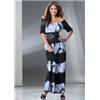vestito: (40, 18, 72, 94)
